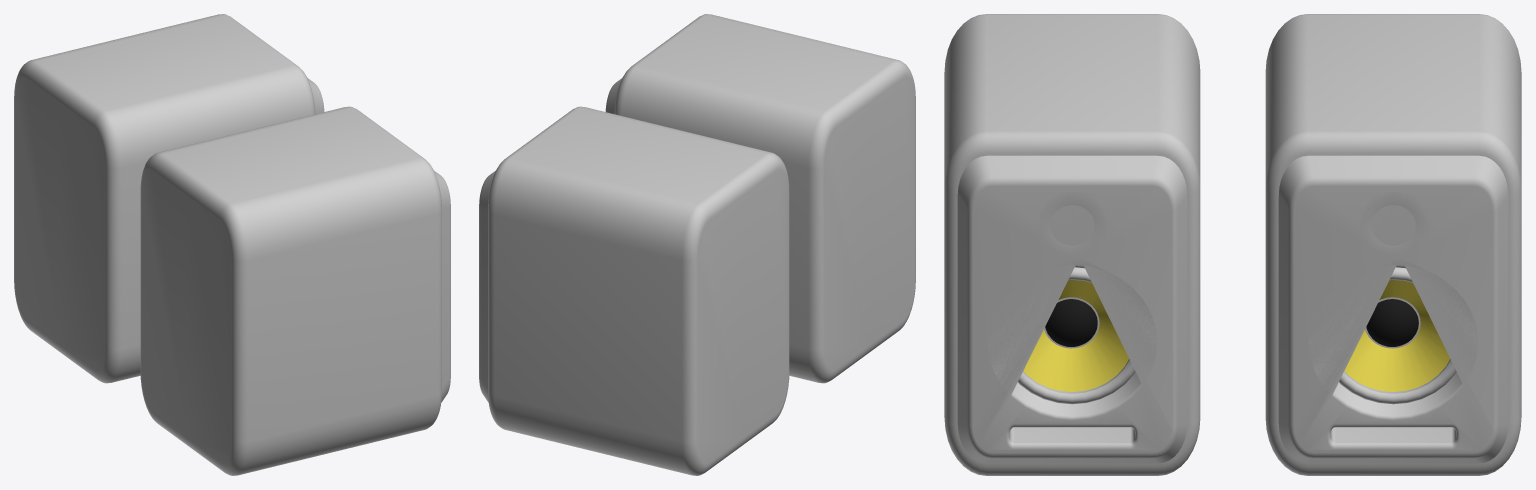
File: KRKSpeakerSet.fbx
3 views of the same model, side by side, from view 1: azimuth 30°, elevation 25°; view 2: azimuth 150°, elevation 25°; view 3: azimuth 270°, elevation 25° (orthographic). The views are drawn at different scales.
Parts seen in each view (by area): view 1: KRKSpeaker.L, KRkSpeaker.R; view 2: KRkSpeaker.R, KRKSpeaker.L; view 3: KRkSpeaker.R, KRKSpeaker.L.
Part boxes in pixels (left/top/right/bottom): KRKSpeaker.L: left=140, top=106, right=450, bottom=475; KRkSpeaker.R: left=14, top=14, right=324, bottom=383; KRkSpeaker.R: left=479, top=106, right=789, bottom=475; KRKSpeaker.L: left=605, top=14, right=915, bottom=383; KRkSpeaker.R: left=1265, top=14, right=1521, bottom=475; KRKSpeaker.L: left=944, top=14, right=1200, bottom=475.
Bounding box in the file's own units: 178 × 206 × 313.
